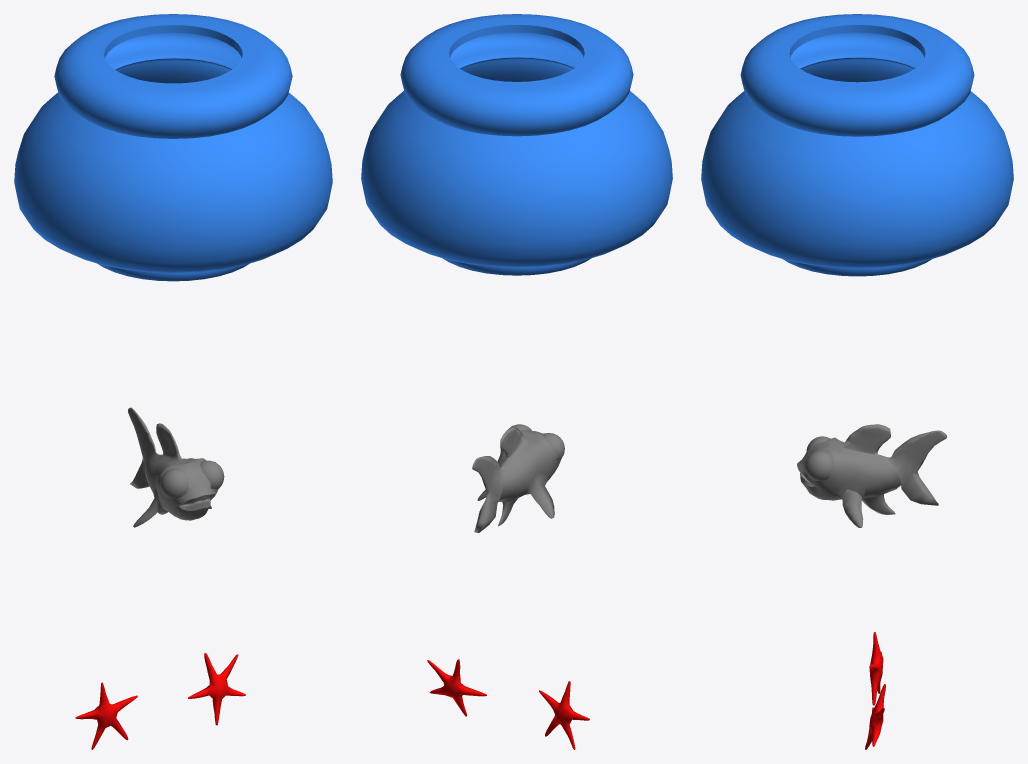
File: im literally dying send help.obj
The picture shows the model from 3 angles, left to right: view 1: azimuth 30°, elevation 25°; view 2: azimuth 150°, elevation 25°; view 3: azimuth 270°, elevation 25°; orthographic projection. The views are drawn at different scales.
Parts seen in each view (by area): view 1: fishbowl, fish, starfish1, starfish2, fish eye1; view 2: fishbowl, fish, starfish1, starfish2; view 3: fishbowl, fish, fish eye2, starfish1, starfish2.
Boxes of the visible parts, bbox=[...] form: fishbowl: bbox=[14, 14, 332, 281]; fish: bbox=[128, 407, 218, 527]; starfish1: bbox=[75, 682, 137, 749]; starfish2: bbox=[188, 653, 245, 725]; fish eye1: bbox=[160, 468, 188, 498]; fishbowl: bbox=[361, 14, 672, 275]; fish: bbox=[472, 427, 561, 532]; starfish1: bbox=[539, 681, 589, 749]; starfish2: bbox=[427, 659, 486, 716]; fishbowl: bbox=[701, 14, 1013, 276]; fish: bbox=[797, 424, 946, 527]; fish eye2: bbox=[805, 450, 832, 480]; starfish1: bbox=[869, 632, 883, 705]; starfish2: bbox=[865, 684, 885, 749].
Bounding box in the file's own units: 14.67 × 35.03 × 14.73.
